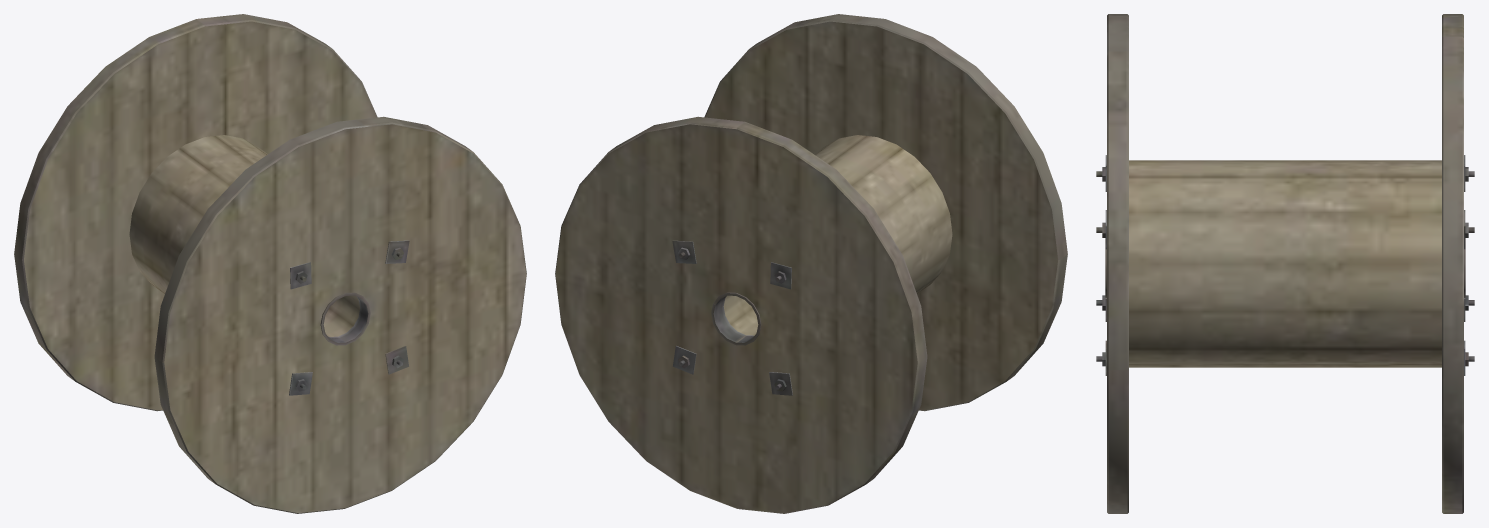
The model's file is cabledrum.glb.
The picture shows the model from 3 angles, left to right: view 1: azimuth 30°, elevation 25°; view 2: azimuth 150°, elevation 25°; view 3: azimuth 270°, elevation 25°; orthographic projection. The views are drawn at different scales.
Visible parts, largest first — view 1: Cylinder_7; view 2: Cylinder_7; view 3: Cylinder_7.
Part boxes in pixels (left/top/right/bottom): Cylinder_7: left=14, top=14, right=526, bottom=513; Cylinder_7: left=555, top=14, right=1067, bottom=513; Cylinder_7: left=1096, top=14, right=1474, bottom=513.
Size of the model in its own units: 1.01 by 1.01 by 0.7599.
Materials: 1 (1 with a texture image).
